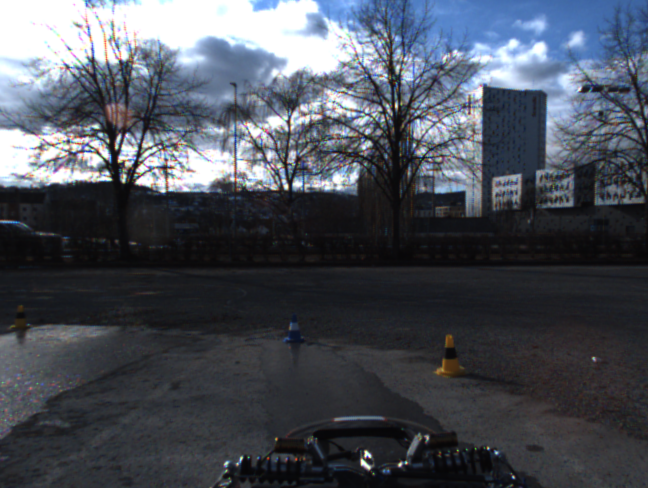cone-small-blue: (282, 314, 305, 344)
cone-small-yellow: (432, 334, 469, 378), (9, 305, 31, 330)
